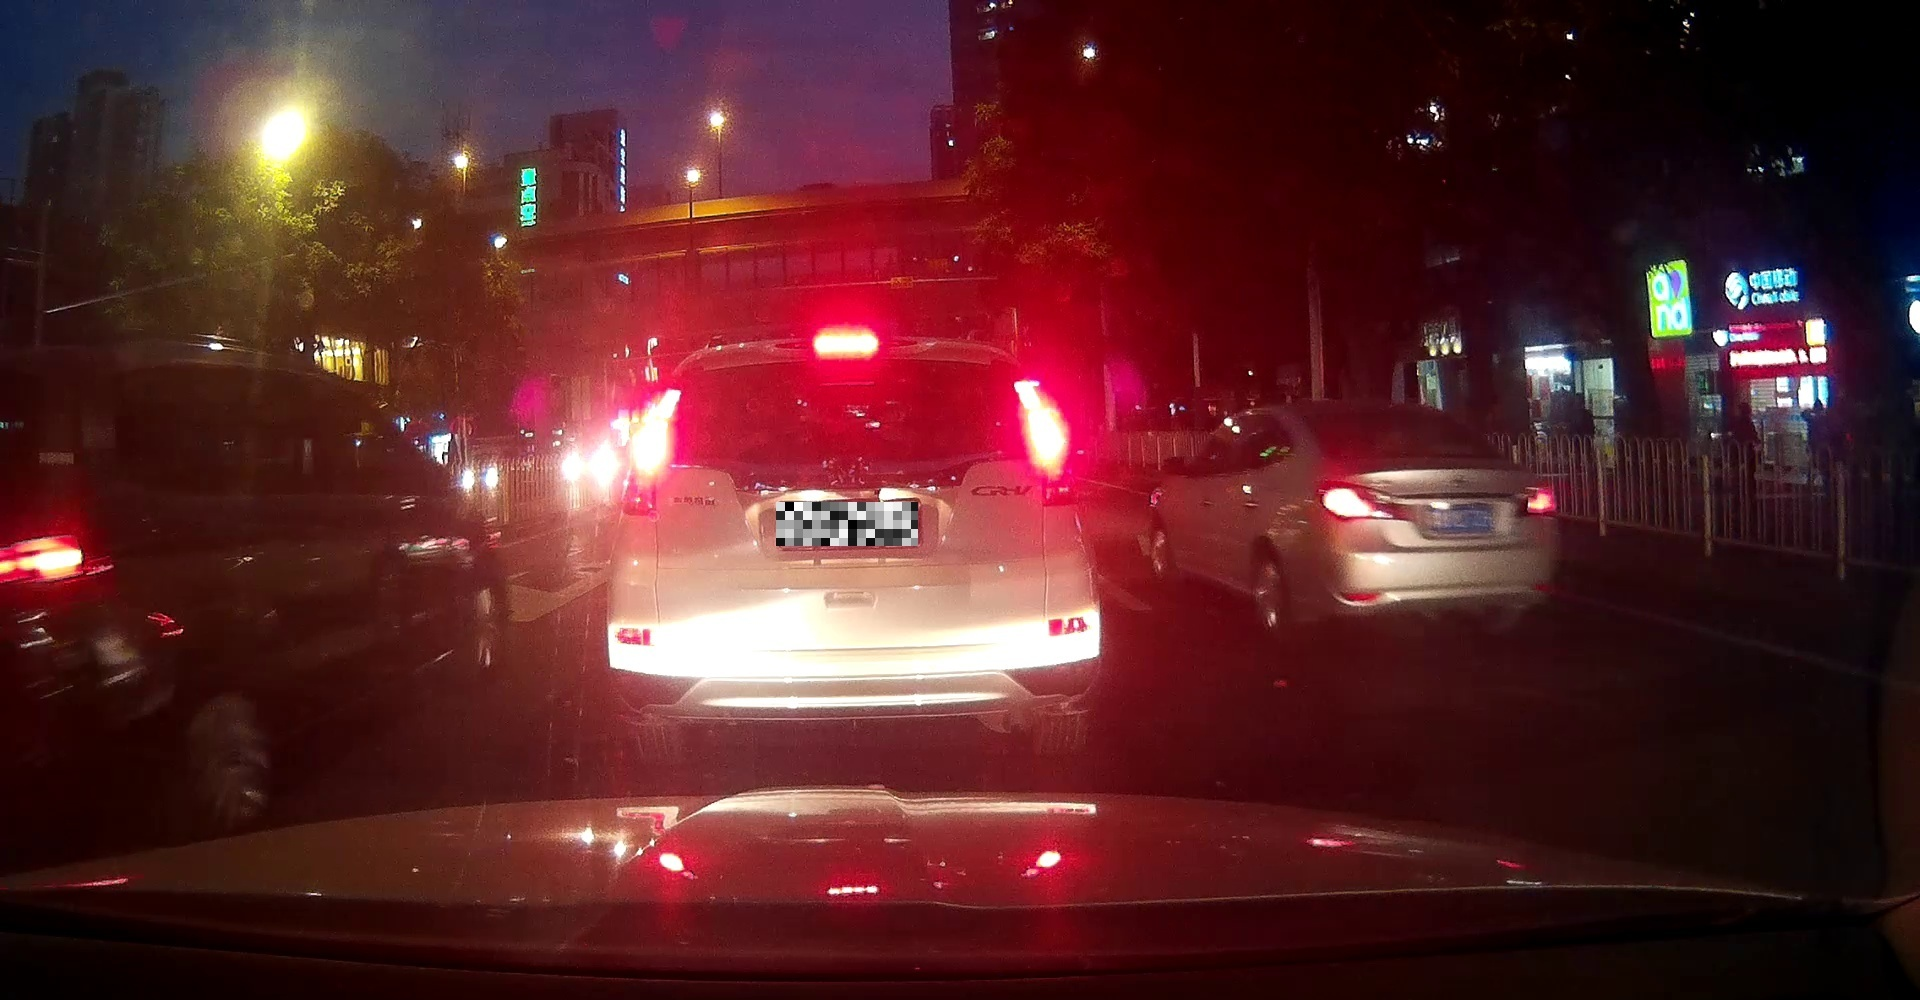L_light: (621, 386, 681, 516), (1318, 480, 1410, 522)
R_light: (1012, 379, 1081, 506), (1525, 484, 1556, 514)
T_light: (811, 334, 881, 354), (1377, 409, 1421, 421)
night-brake: (606, 316, 1102, 772)
night-no: (1291, 404, 1563, 648)
plate_1: (776, 503, 918, 546)
